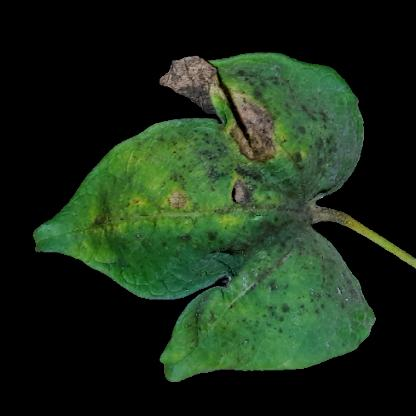curl_stage1: (102, 168, 184, 255)
sooty: (184, 125, 256, 269), (237, 69, 329, 136), (255, 167, 313, 272), (256, 280, 362, 334), (294, 117, 359, 181)
